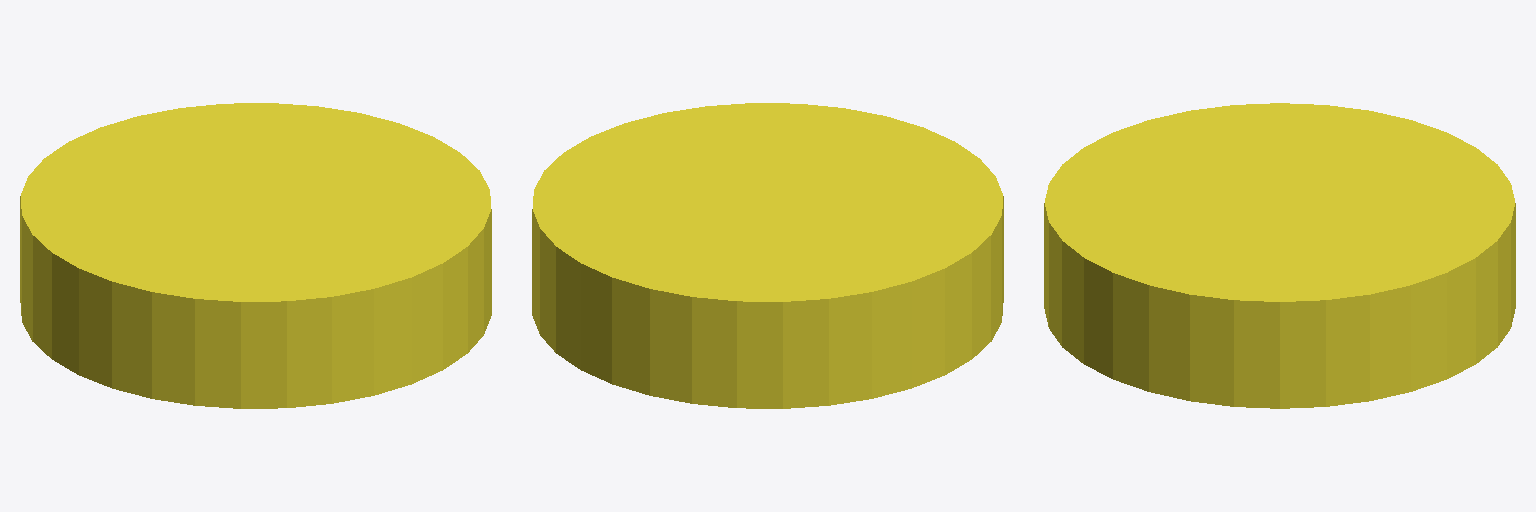
The robot description file, URDF, robot "pointRobot":
<?xml version="1.0"?>
<!-- =================================================================================== -->
<!-- |    This document was autogenerated by xacro from panda_arm.urdf.xacro           | -->
<!-- |    EDITING THIS FILE BY HAND IS NOT RECOMMENDED                                 | -->
<!-- =================================================================================== -->


<robot name="pointRobot">
  <material name="blue">
      <color rgba="0 0 0.8 1"/>
  </material>
  <material name="red">
      <color rgba="0.8 0 0.0 1"/>
  </material>
  <link name="world"/>
  <link name="base_link_x">
    <inertial>
      <mass value="1.0"/>
      <origin rpy="0 0 0" xyz="0 0 0"/>
      <inertia ixx="1.0" ixy="0.0" ixz="0.0" iyy="1.0" iyz="0.0" izz="1.0"/>
    </inertial>
  </link>
  <link name="base_link_y">
    <inertial>
      <mass value="1.0"/>
      <origin rpy="0 0 0" xyz="0 0 0"/>
      <inertia ixx="1.0" ixy="0.0" ixz="0.0" iyy="1.0" iyz="0.0" izz="1.0"/>
    </inertial>
  </link>
  <link name="base_link">
    <inertial>
      <mass value="100.0"/>
      <origin rpy="0 0 0" xyz="0 0 0"/>
      <inertia ixx="1.0" ixy="0.0" ixz="0.0" iyy="1.0" iyz="0.0" izz="1.0"/>
    </inertial>
    <collision>
      <origin rpy="0.0 0 0" xyz="0 0 0"/>
      <geometry>
          <cylinder length="0.1" radius="0.2"/>
      </geometry>
    </collision>
    <visual>
      <origin rpy="0.0 0 0" xyz="0 0 0"/>
      <geometry>
          <cylinder length="0.1" radius="0.2"/>
      </geometry>
    </visual>
  </link>
  <joint name="mobile_joint_x" type="prismatic">
    <safety_controller k_position="100.0" k_velocity="40.0" soft_lower_limit="-2.8973" soft_upper_limit="2.8973"/>
    <parent link="world"/>
    <child link="base_link_x"/>
    <origin rpy="0 0 0" xyz="0 0 0.05"/>
    <axis xyz="1 0 0"/>
    <limit effort="87" lower="-5" upper="5" velocity="2.1750"/>
  </joint>
  <joint name="mobile_joint_y" type="prismatic">
    <safety_controller k_position="100.0" k_velocity="40.0" soft_lower_limit="-2.8973" soft_upper_limit="2.8973"/>
    <parent link="base_link_x"/>
    <child link="base_link_y"/>
    <origin rpy="0 0 0" xyz="0 0 0"/>
    <axis xyz="0 1 0"/>
    <limit effort="87" lower="-5" upper="5" velocity="2.1750"/>
  </joint>
  <joint name="mobile_joint_theta" type="revolute">
    <parent link="base_link_y"/>
    <child link="base_link"/>
    <origin rpy="0 0 0" xyz="0 0 0"/>
    <axis xyz="0 0 1"/>
    <limit effort="87" lower="-5" upper="5" velocity="2.1750"/>
  </joint>
</robot>

--- Facts derived from the render (not from the file) ---
Views: 3 orthographic renders of the robot side by side, from view 1: azimuth 30°, elevation 25°; view 2: azimuth 150°, elevation 25°; view 3: azimuth 270°, elevation 25°.
Robot: pointRobot — 4 links, 3 joints (1 revolute, 2 prismatic); root link world; default pose: every joint at zero.
Links seen in each view (by area): view 1: base_link; view 2: base_link; view 3: base_link.
Boxes of the visible links, bbox=[...] form: base_link: bbox=[20, 103, 491, 408]; base_link: bbox=[532, 103, 1003, 408]; base_link: bbox=[1044, 103, 1515, 408].
Size in the robot's own frame: 0.4 by 0.4 by 0.1 metres.
Geometry: primitives only (box / cylinder / sphere), no mesh files.